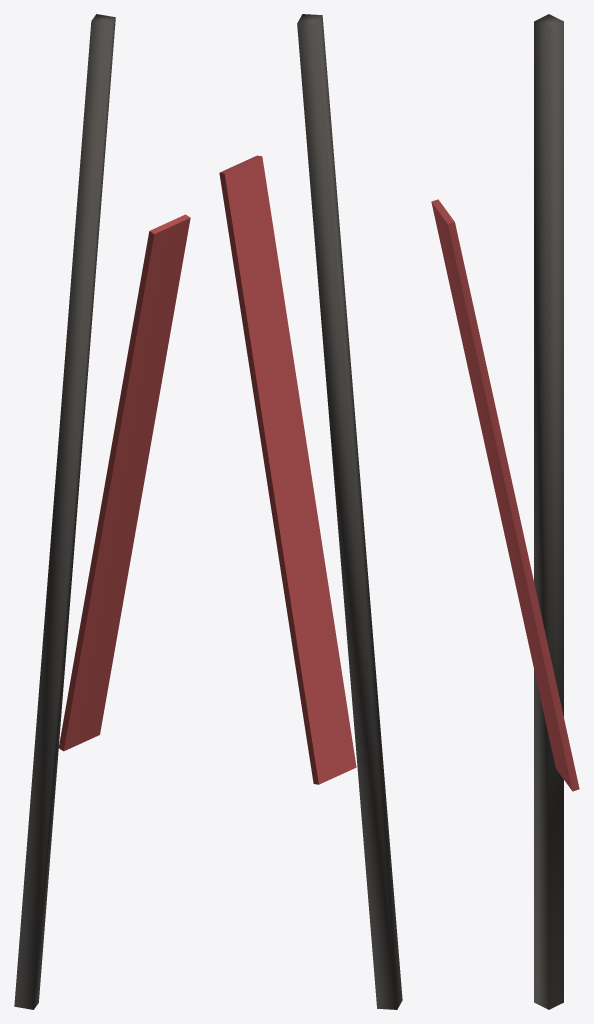
The model's file is frozen_ribbon.glb.
The picture shows the model from 3 angles, left to right: view 1: azimuth 30°, elevation 25°; view 2: azimuth 210°, elevation 25°; view 3: azimuth 270°, elevation 25°; orthographic projection. The views are drawn at different scales.
Parts seen in each view (by area): view 1: frozen_ribbon; view 2: frozen_ribbon; view 3: frozen_ribbon.
Boxes of the visible parts, bbox=[...] form: frozen_ribbon: bbox=[14, 14, 190, 1009]; frozen_ribbon: bbox=[219, 14, 402, 1009]; frozen_ribbon: bbox=[431, 14, 579, 1009].
Size of the model in its own units: 0.0834 by 0.6013 by 0.079.
